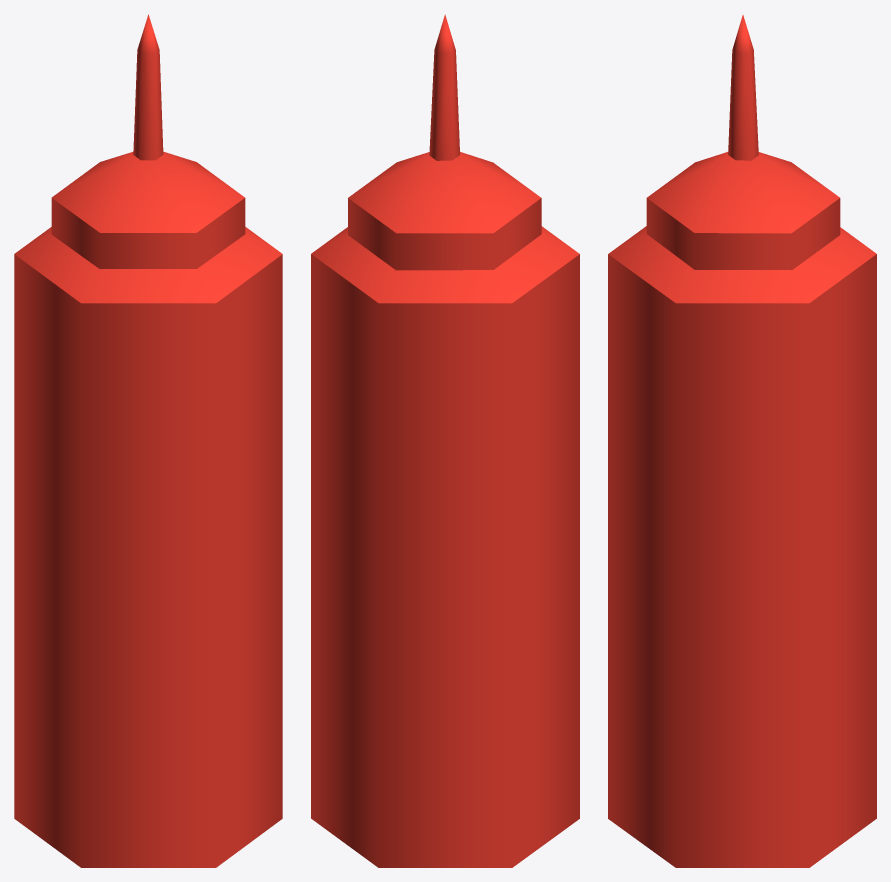
File: SM_ketchup_001.FBX
The picture shows the model from 3 angles, left to right: view 1: azimuth 30°, elevation 25°; view 2: azimuth 150°, elevation 25°; view 3: azimuth 270°, elevation 25°; orthographic projection.
Parts seen in each view (by area): view 1: SM_ketchup_001; view 2: SM_ketchup_001; view 3: SM_ketchup_001.
Part boxes in pixels (x1,y1,x2,y2): SM_ketchup_001: [14, 14, 282, 867]; SM_ketchup_001: [311, 14, 579, 867]; SM_ketchup_001: [608, 15, 876, 867].
Bounding box in the file's own units: 7.17 × 8.27 × 27.32.
